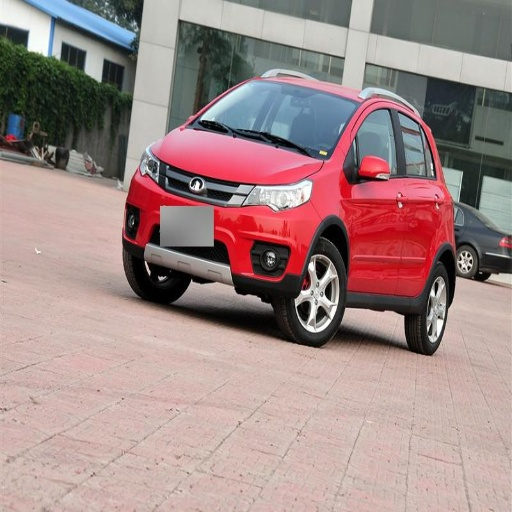front_bumper: (121, 163, 313, 291)
front_glass: (185, 80, 356, 159)
front_left_door: (347, 100, 405, 292)
